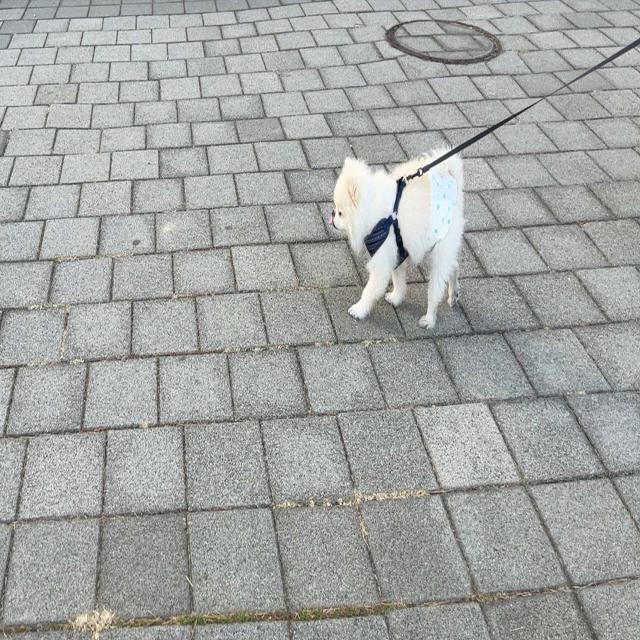Dog: (330, 142, 468, 333)
